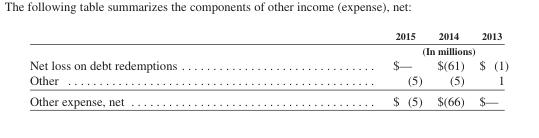table: (28, 29, 507, 107)
table column: (28, 29, 284, 107), (284, 29, 428, 107), (428, 29, 471, 107), (471, 29, 507, 107)
table column header: (28, 29, 507, 57)
table row: (28, 72, 507, 90), (28, 90, 507, 107), (28, 42, 507, 57), (28, 57, 507, 72), (28, 29, 507, 42)
table spanning cell: (284, 42, 507, 57)
